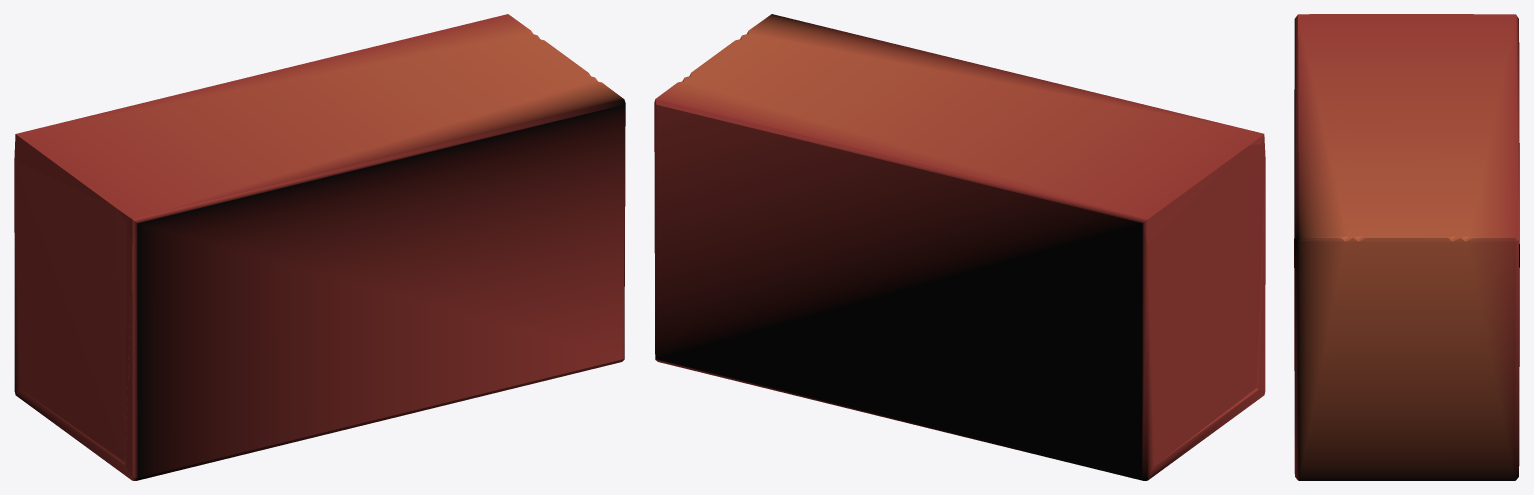
File: Container(2).glb
The picture shows the model from 3 angles, left to right: view 1: azimuth 30°, elevation 25°; view 2: azimuth 150°, elevation 25°; view 3: azimuth 270°, elevation 25°; orthographic projection. The views are drawn at different scales.
Parts seen in each view (by area): view 1: Root; view 2: Root; view 3: Root.
Boxes of the visible parts, <box> form: Root: <box>14,14,625,480</box>; Root: <box>654,14,1265,480</box>; Root: <box>1294,14,1519,480</box>.
Bounding box in the file's own units: 3.49 × 1.77 × 1.48.
